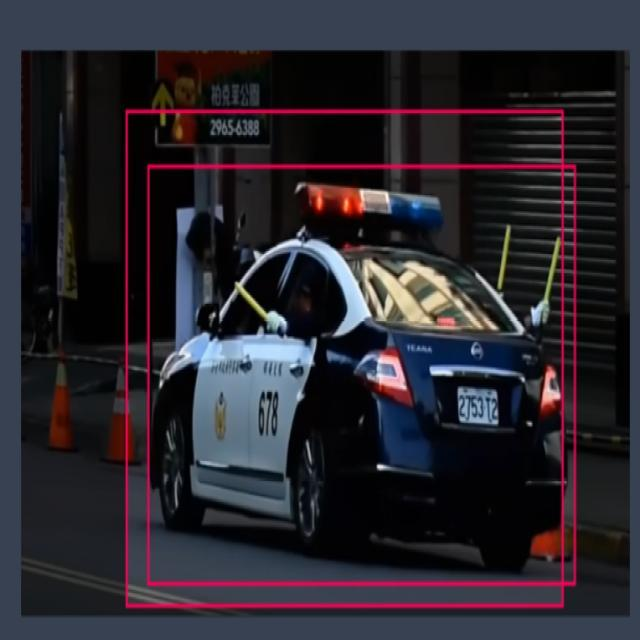police_car: (150, 176, 564, 571)
